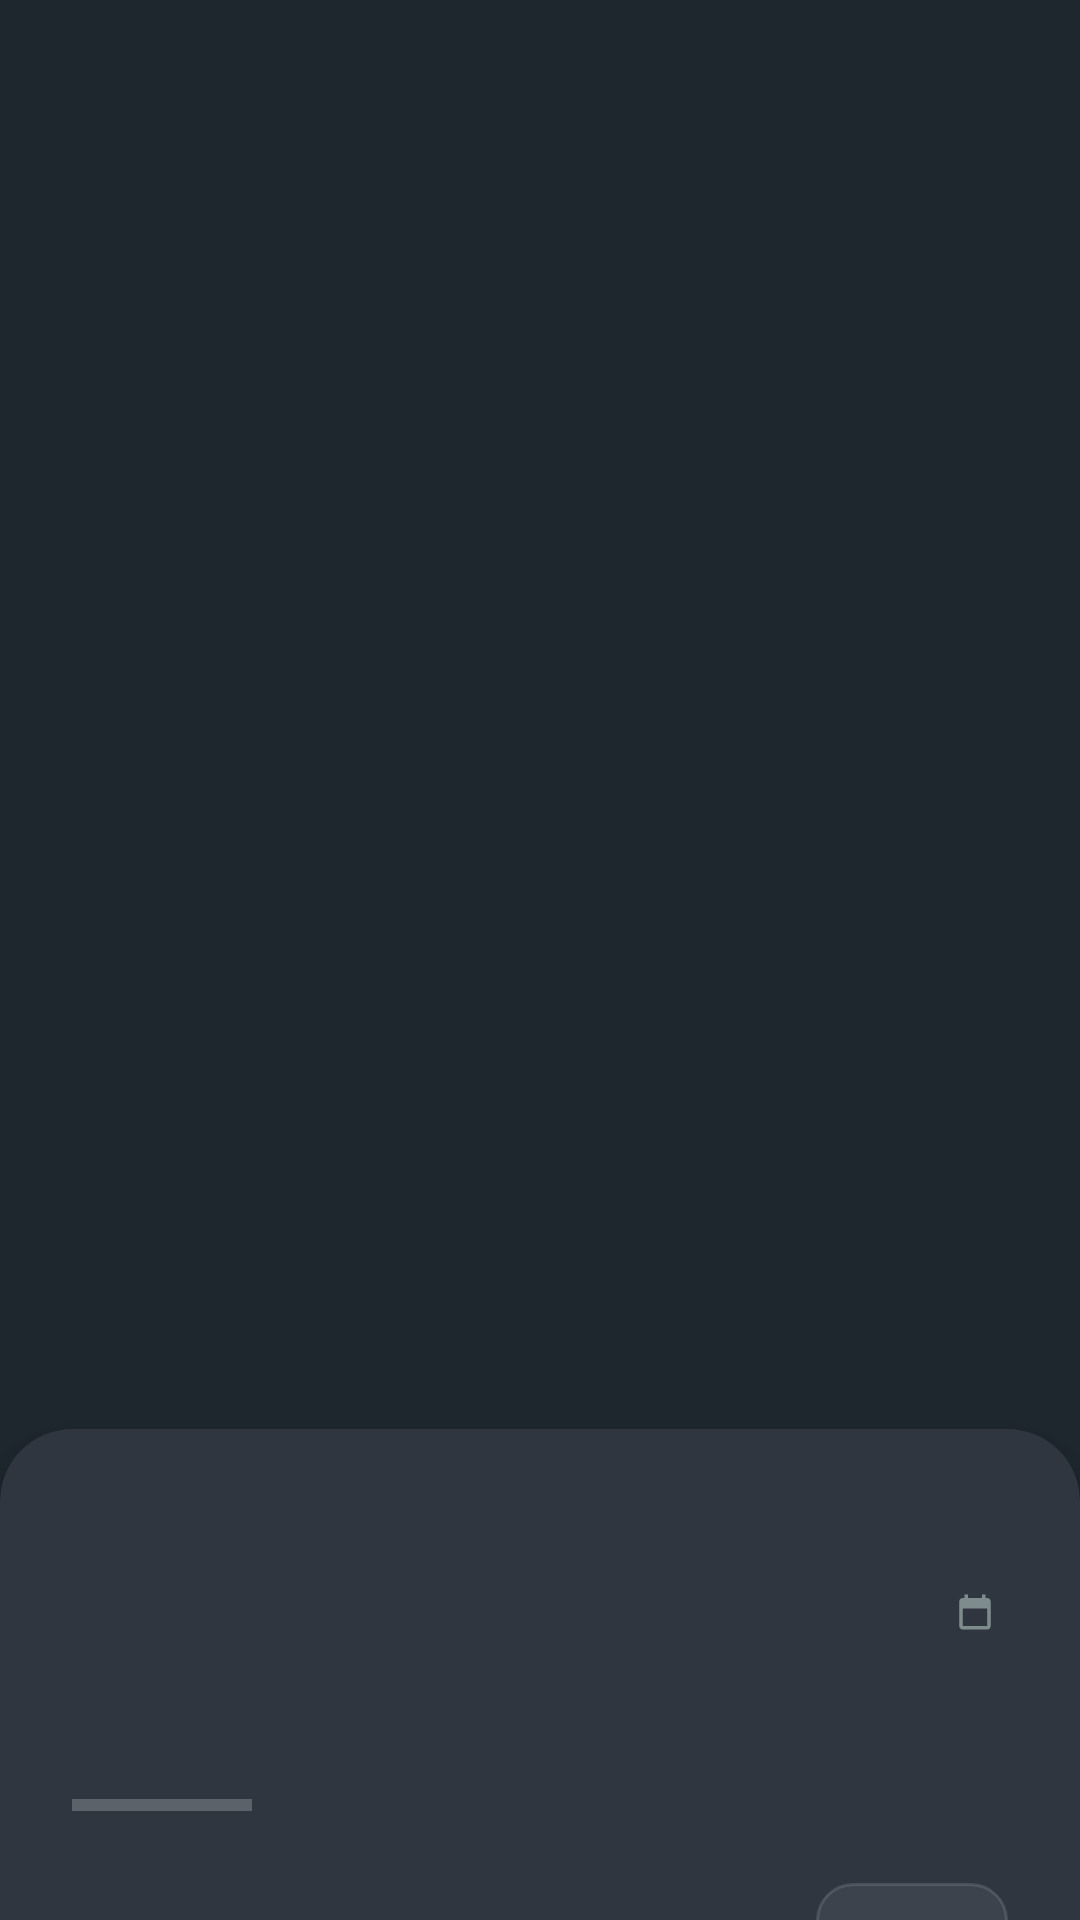

Screen size 1080w x 1920h. Icon name, then its box in pixels as [left=x1, top=y1, right=x2, bottom=y2]:
calendar: [left=959, top=1594, right=991, bottom=1630]
